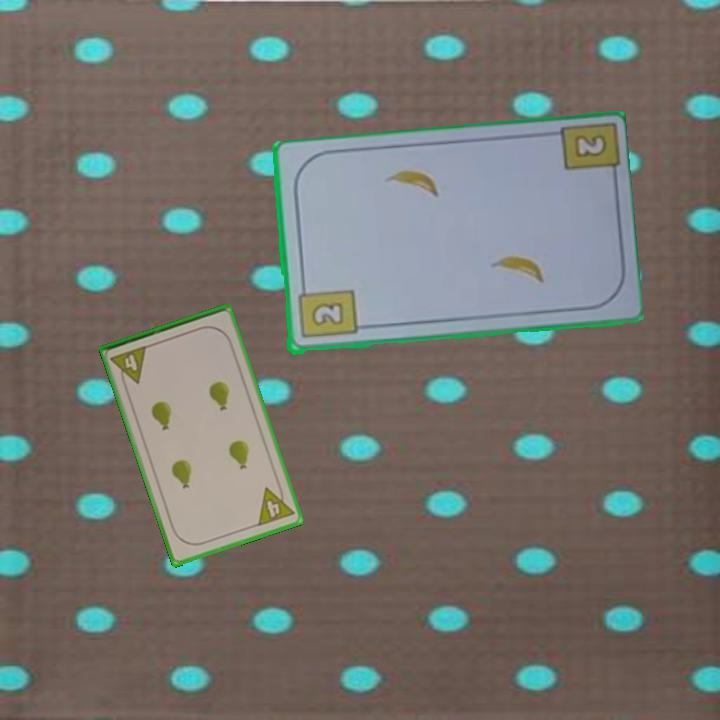2b: (294, 280, 359, 342), (570, 131, 610, 161)
4p: (254, 480, 297, 529), (107, 342, 150, 390)
